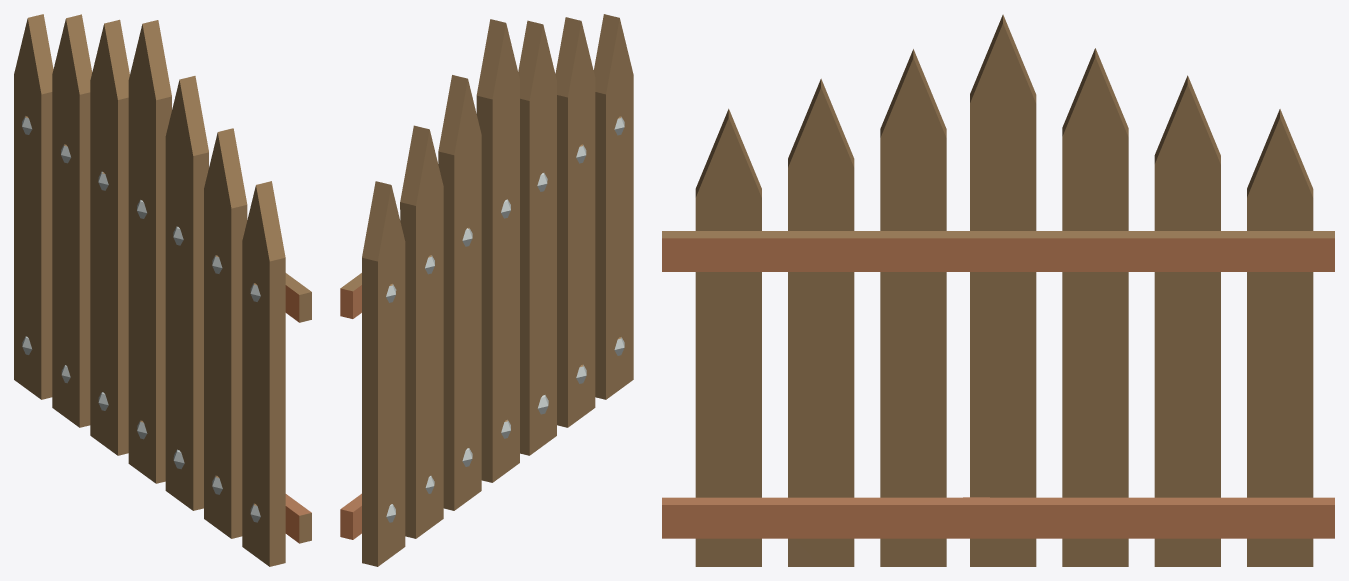
The model's file is Fence_middle_2.fbx.
3 renders of one model, left to right at view 1: azimuth 30°, elevation 25°; view 2: azimuth 150°, elevation 25°; view 3: azimuth 270°, elevation 25°, orthographic. The views are drawn at different scales.
Parts seen in each view (by area): view 1: Cube.038; view 2: Cube.038; view 3: Cube.038.
Part boxes in pixels (bbox=[...]): Cube.038: bbox=[14, 14, 311, 566]; Cube.038: bbox=[340, 14, 633, 566]; Cube.038: bbox=[662, 14, 1334, 566].
Size of the model in its own units: 31.75 by 404 by 453.
